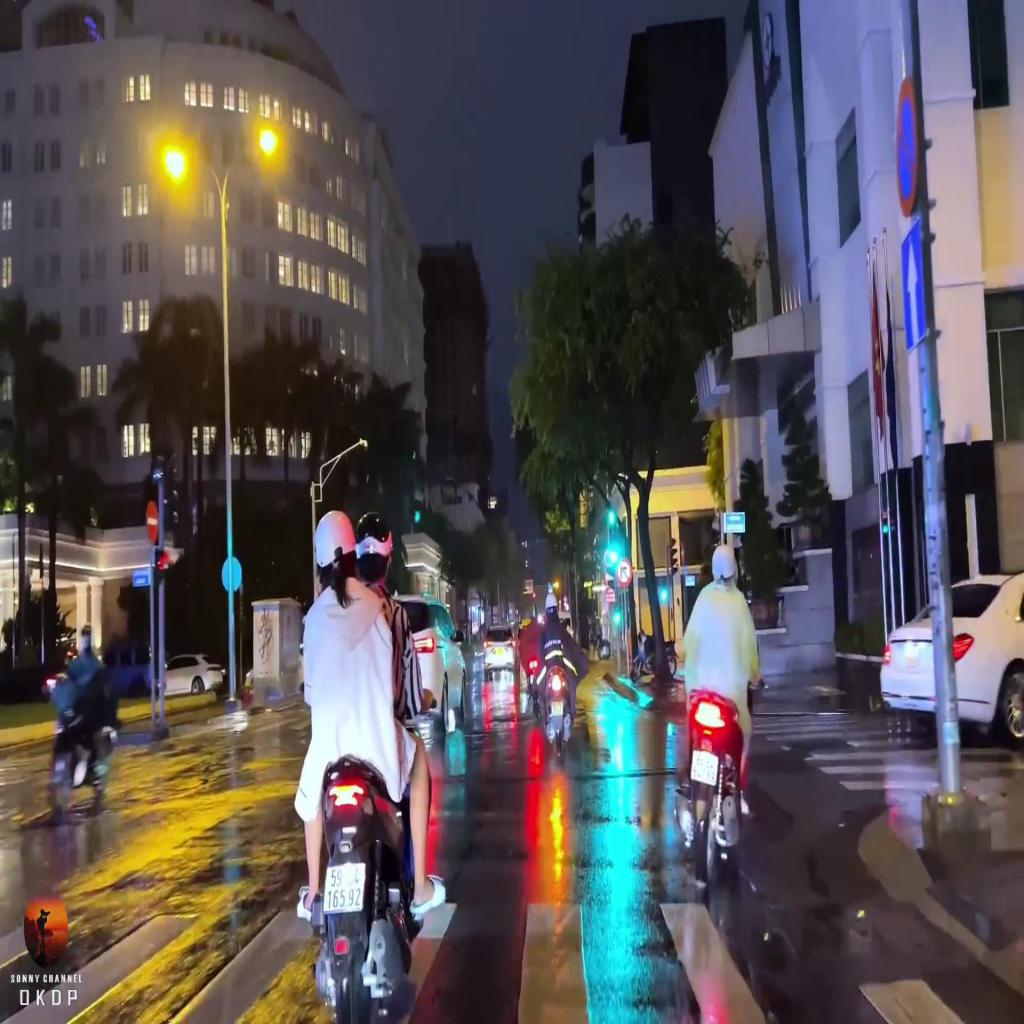cam_do_xe: (896, 80, 918, 217)
cam_re_phai: (617, 557, 634, 586)
cam_xe_di_nguoc_chieu: (146, 499, 159, 540)
duong_mot_chieu: (901, 215, 927, 352)
